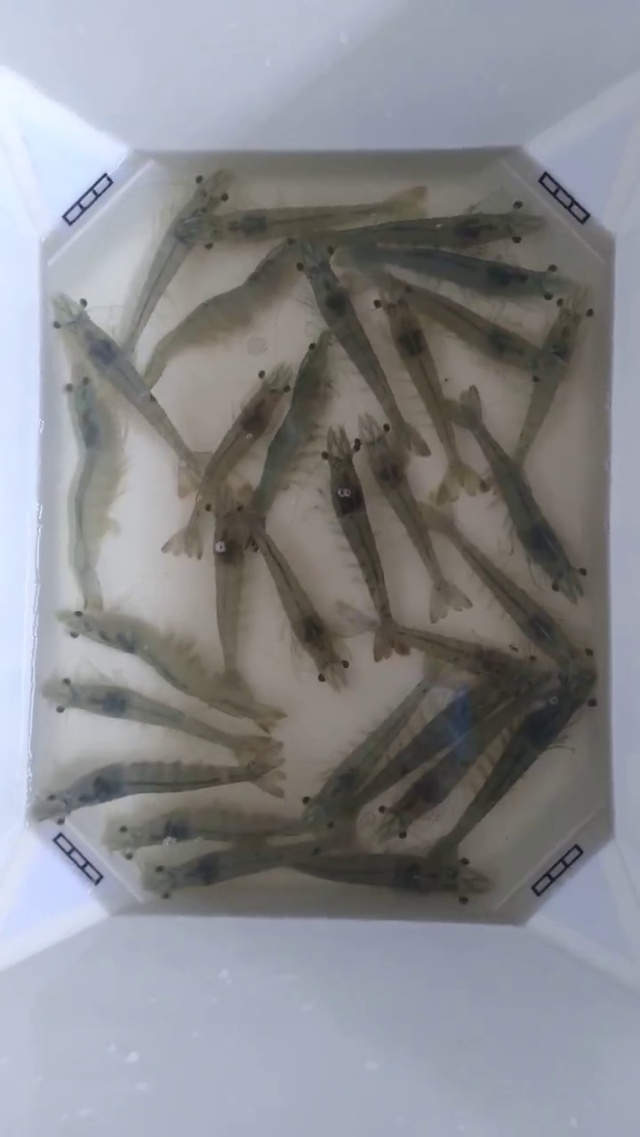shrimp: (561, 392, 639, 734), (562, 143, 639, 486), (164, 434, 273, 669), (352, 699, 464, 891), (34, 679, 161, 847), (0, 610, 96, 814), (42, 188, 139, 379), (0, 782, 102, 961), (580, 492, 639, 797), (109, 761, 233, 896), (82, 320, 193, 465), (162, 405, 264, 557), (248, 332, 332, 516), (468, 147, 571, 295), (146, 169, 258, 304), (250, 531, 343, 686), (144, 773, 258, 899), (513, 286, 591, 464), (277, 738, 372, 883), (210, 619, 284, 795), (298, 240, 381, 389), (52, 613, 160, 724), (63, 372, 126, 558), (0, 196, 41, 469), (357, 356, 429, 498), (420, 792, 495, 919), (226, 206, 355, 270), (321, 416, 372, 548), (428, 415, 481, 529), (362, 568, 410, 661)
